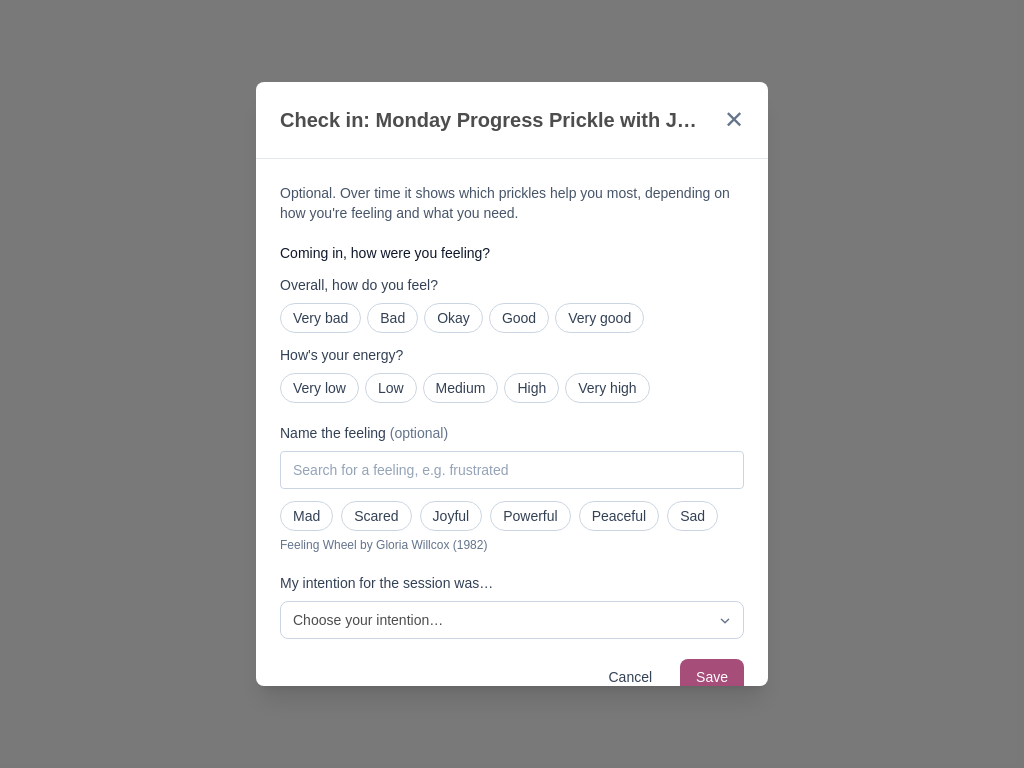
PrickleCheckModal check-in › shows a join link after saving a check-in when the prickle has one
This screenshot has width=1024, height=768.
Click the button "Good". click: click(519, 318)
box: 489,303 -> 549,333
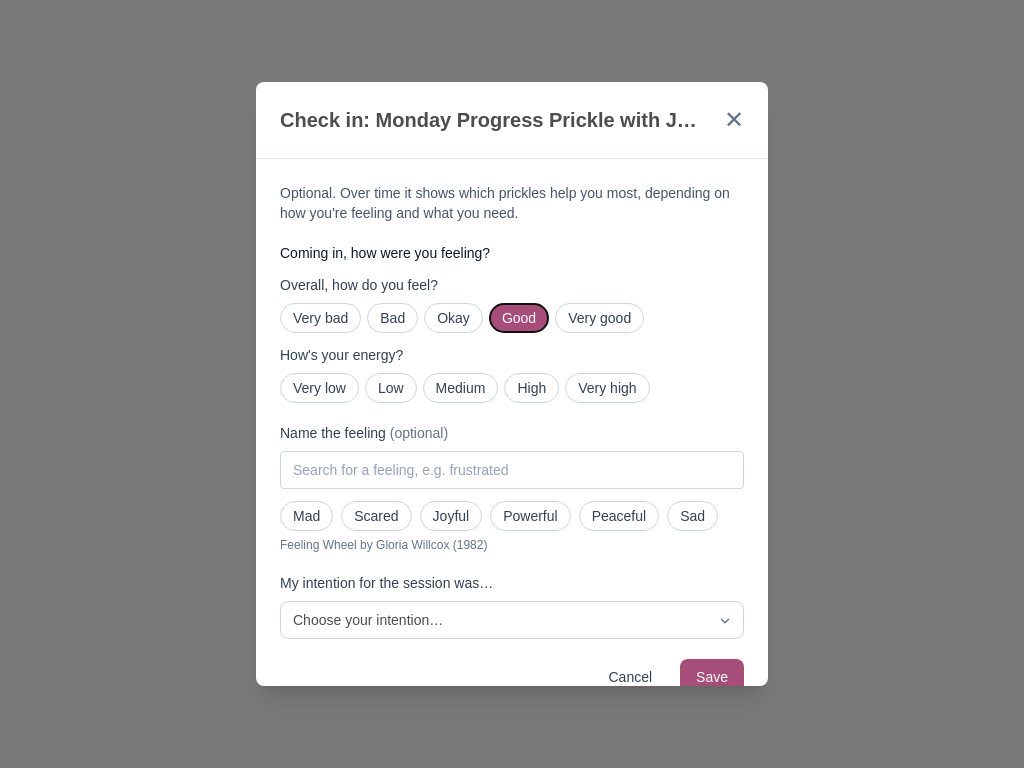
Click the button "Save". click: click(712, 677)
box: 680,659 -> 744,695
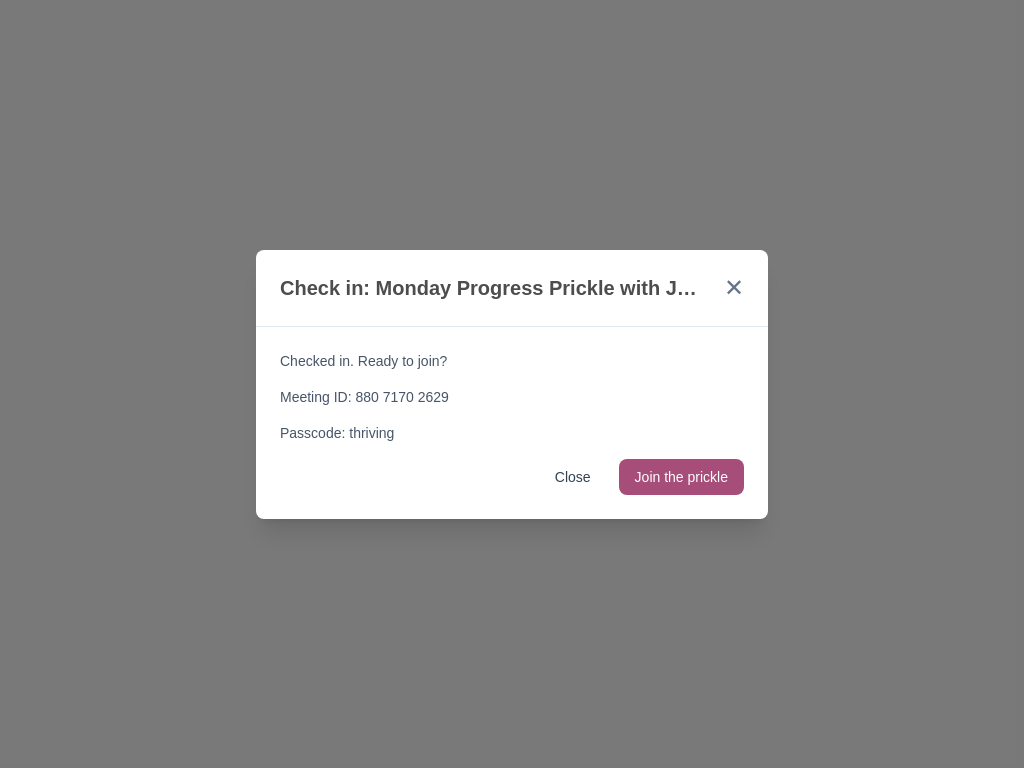
Result: the text "Passcode: thriving" is shown at 280,424 -> 394,440
Result: the text "Meeting ID: 880 7170 2629" is shown at 280,388 -> 449,404
